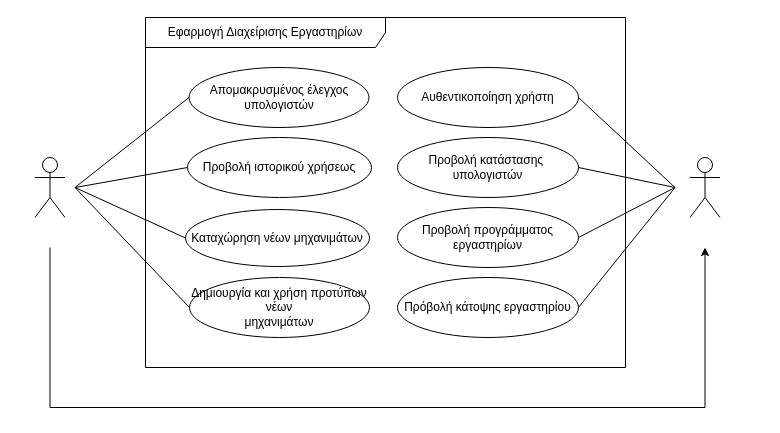
Some shapes in this 780 by 433 pixel diagram are drawn without their labels. Each missing label, with the centre of its shape:
Διαχειριστής: point (49, 187)
Χρήστης εργαστηρίου: point (704, 187)
